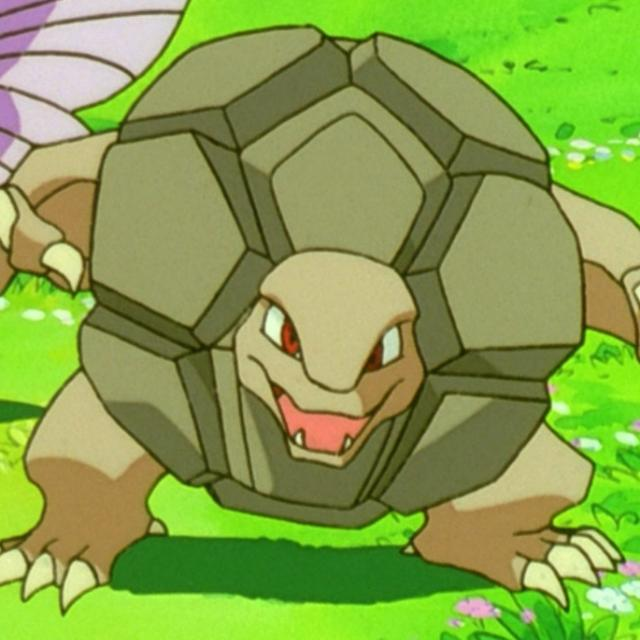Golem: (0, 24, 640, 610)
